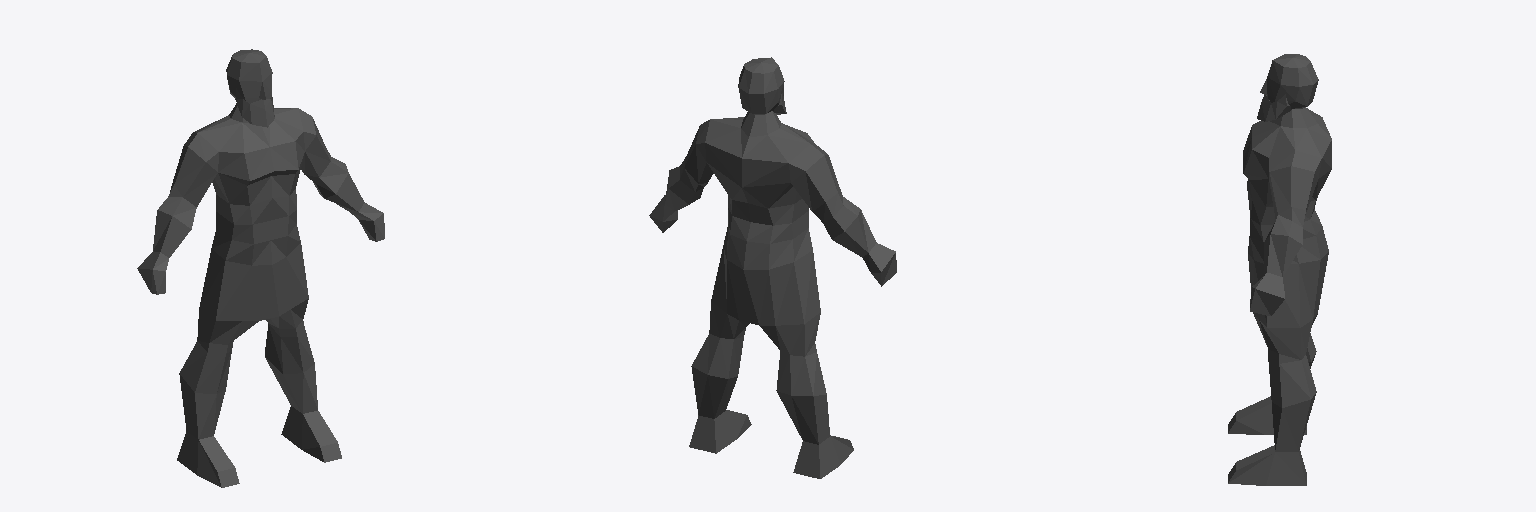
The model's file is peon.obj.
3 renders of one model, left to right at view 1: azimuth 30°, elevation 25°; view 2: azimuth 150°, elevation 25°; view 3: azimuth 270°, elevation 25°, orthographic.
Visible parts, largest first — view 1: Mesh.003_Mesh_warrior; view 2: Mesh.003_Mesh_warrior; view 3: Mesh.003_Mesh_warrior.
Boxes of the visible parts, x1,y1,x2,y2 form: Mesh.003_Mesh_warrior: [137, 49, 384, 487]; Mesh.003_Mesh_warrior: [649, 57, 896, 478]; Mesh.003_Mesh_warrior: [1228, 54, 1331, 485].
Bounding box in the file's own units: 2.32 × 3.79 × 0.9038.